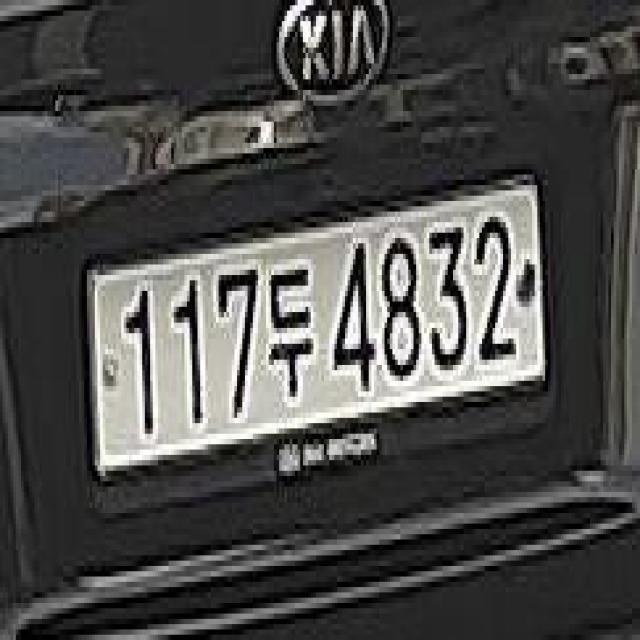illegal_plate: (84, 171, 548, 498)
